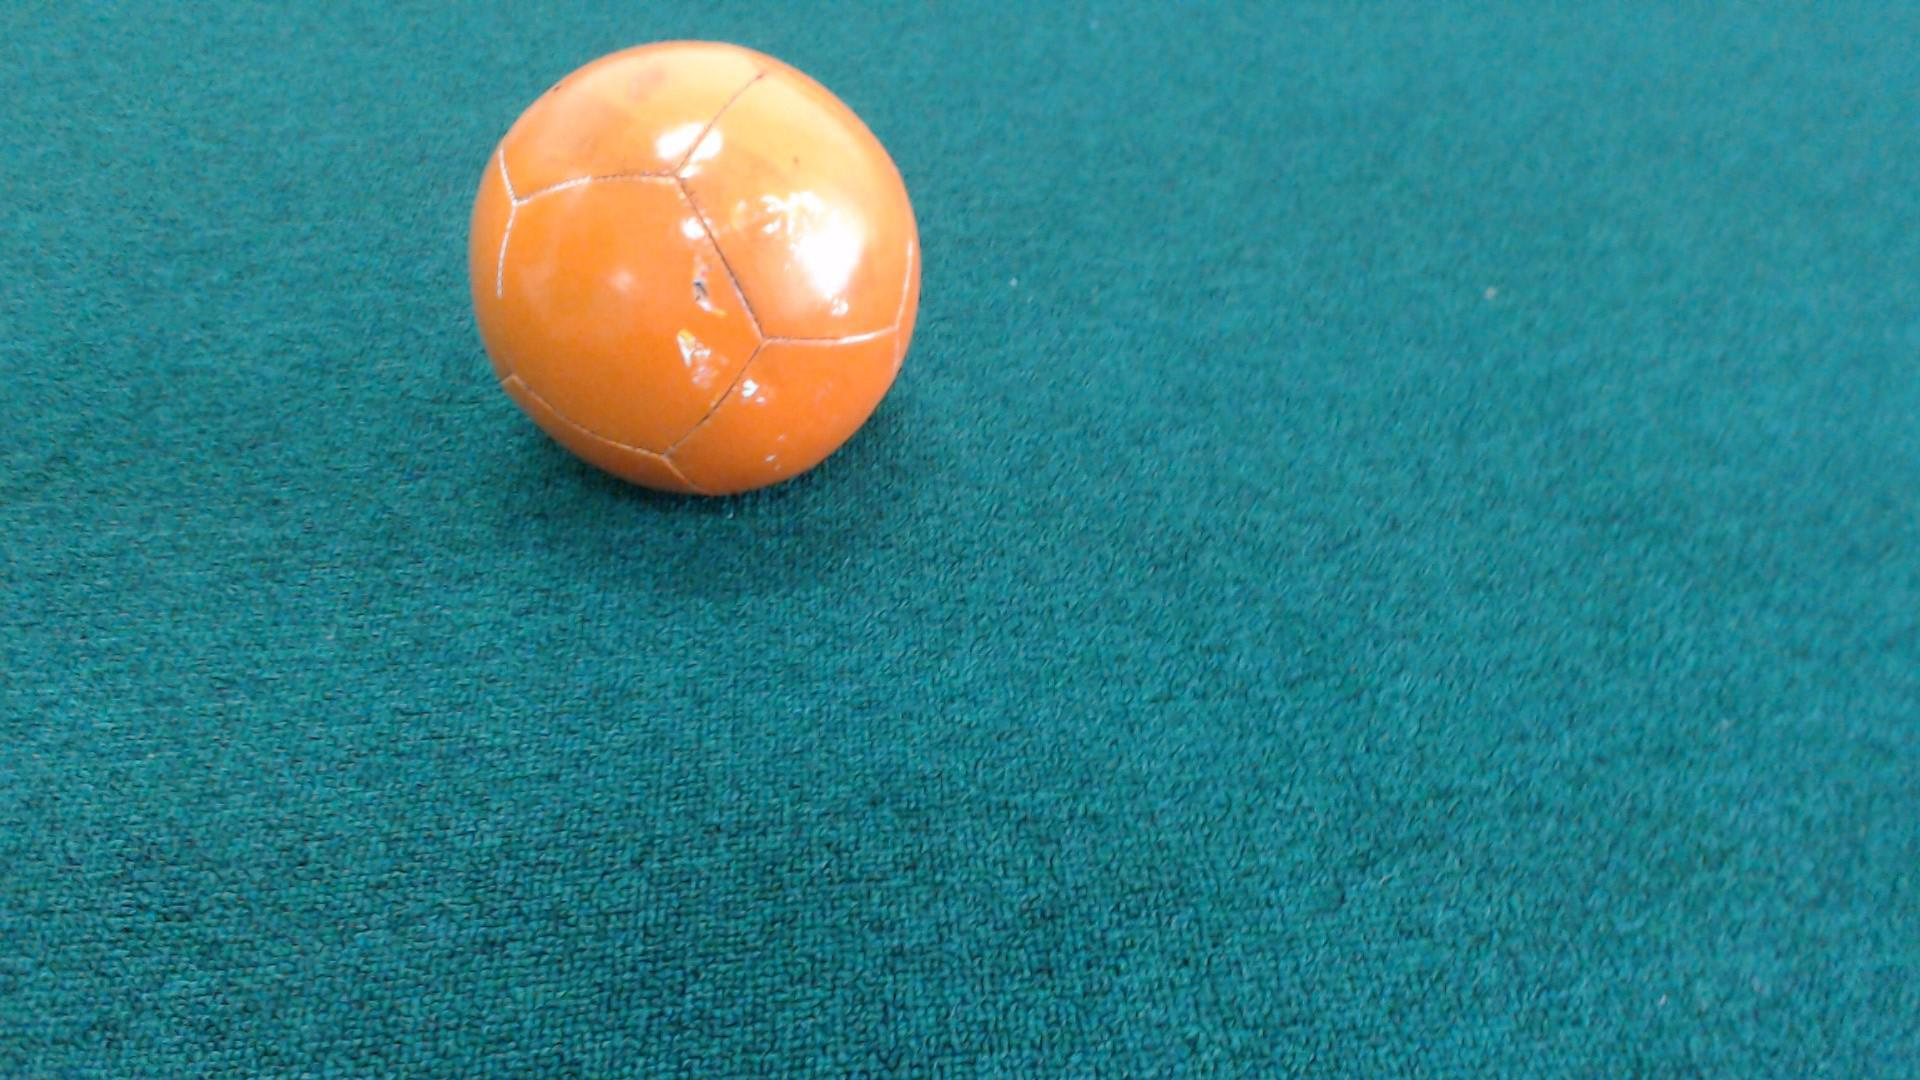bola: (442, 33, 940, 520)
